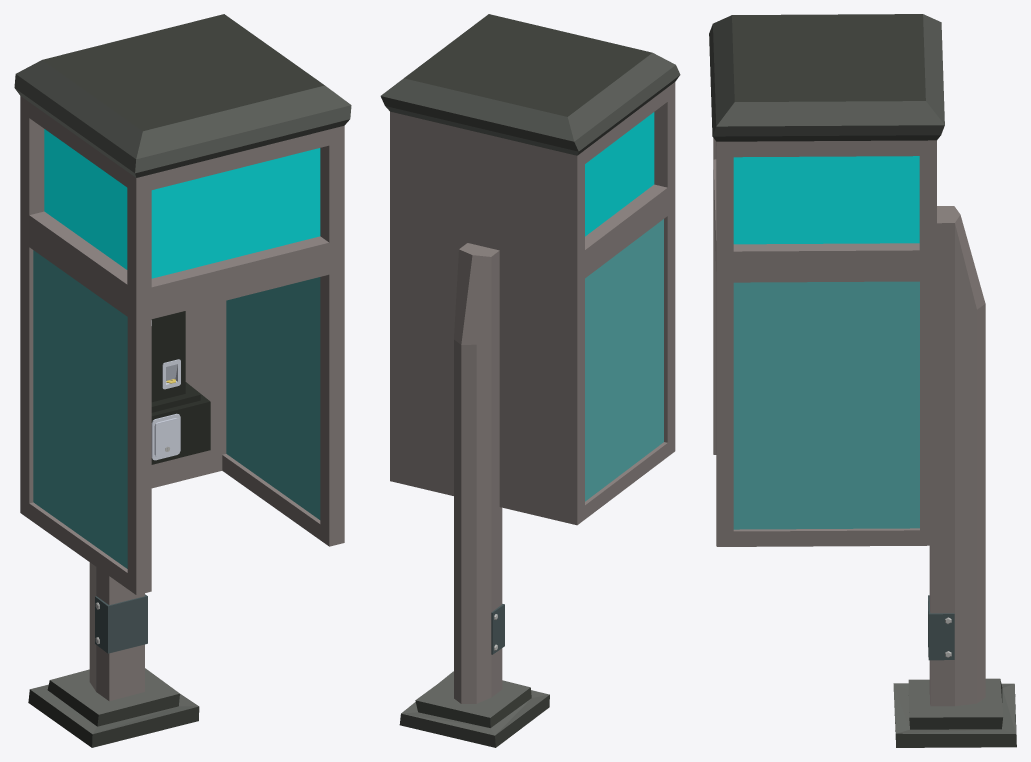
The model's file is Phone_Booth.glb.
3 renders of one model, left to right at view 1: azimuth 30°, elevation 25°; view 2: azimuth 150°, elevation 25°; view 3: azimuth 270°, elevation 25°, orthographic. The views are drawn at different scales.
Parts seen in each view (by area): view 1: PhoneBooth; view 2: PhoneBooth; view 3: PhoneBooth.
Boxes of the visible parts, <box> form: PhoneBooth: <box>14,14,351,747</box>; PhoneBooth: <box>380,14,680,747</box>; PhoneBooth: <box>709,14,1016,747</box>.
Size of what is drawn, in the model's own units: 1.06 by 3.11 by 1.3.
Materials: 1 (1 with a texture image).
